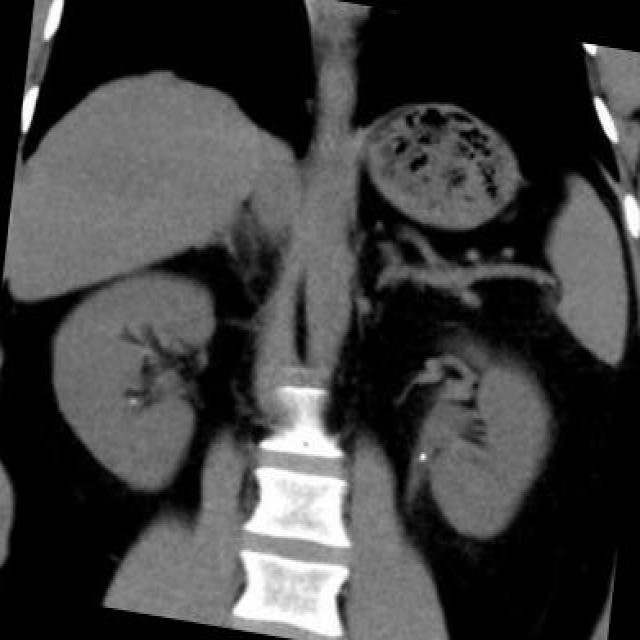Tas_Var: (414, 446, 429, 466), (126, 393, 138, 407)
